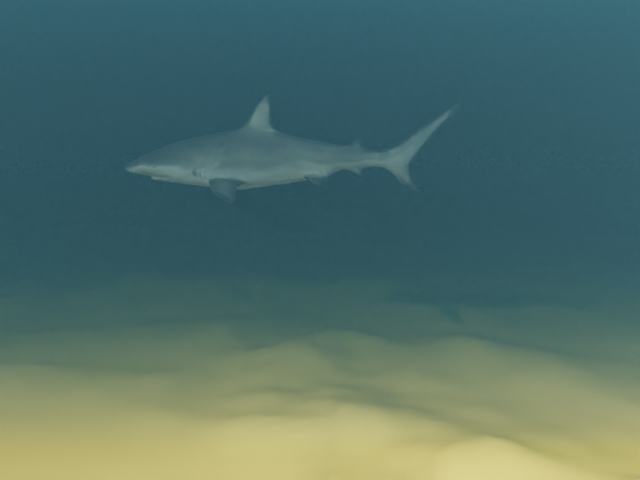Carribean Shark.001: (124, 94, 462, 203)
